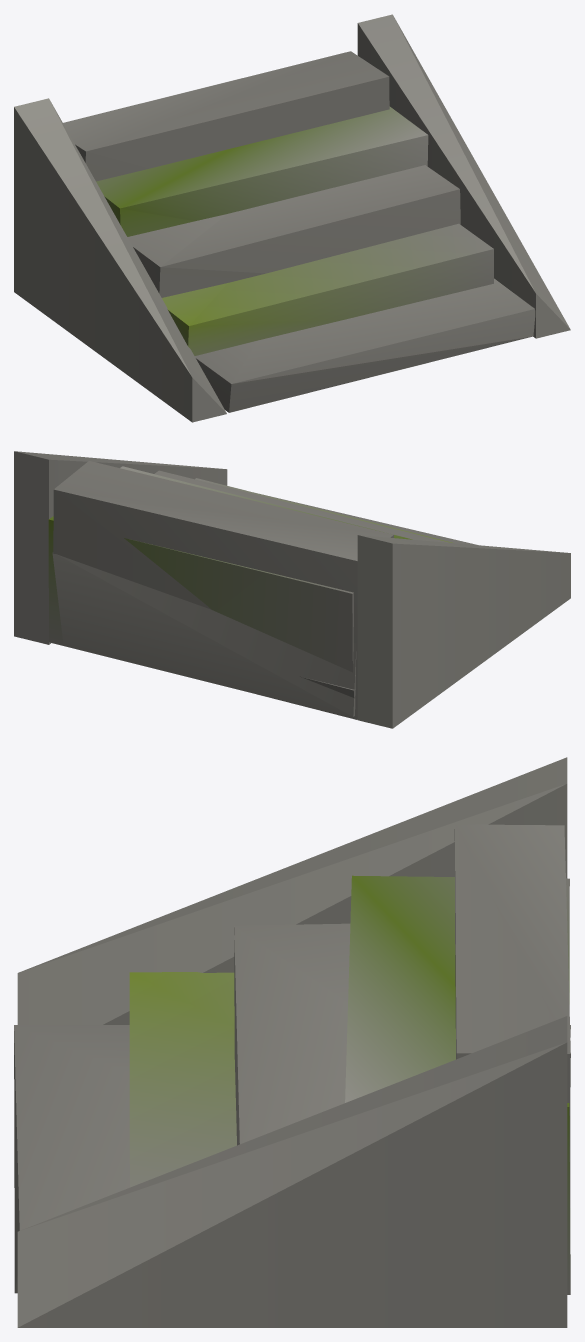
The model's file is zen_temple_steps-lod1.glb.
3 views of the same model, one above another, from view 1: azimuth 30°, elevation 25°; view 2: azimuth 150°, elevation 25°; view 3: azimuth 270°, elevation 25° (orthographic). The views are drawn at different scales.
Visible parts, largest first — view 1: zen_temple_steps; view 2: zen_temple_steps; view 3: zen_temple_steps.
Part boxes in pixels (<box>): zen_temple_steps: <box>14,14,570,422</box>; zen_temple_steps: <box>14,451,570,728</box>; zen_temple_steps: <box>14,757,570,1327</box>.
Bounding box in the file's own units: 3.68 × 1.73 × 3.04.
